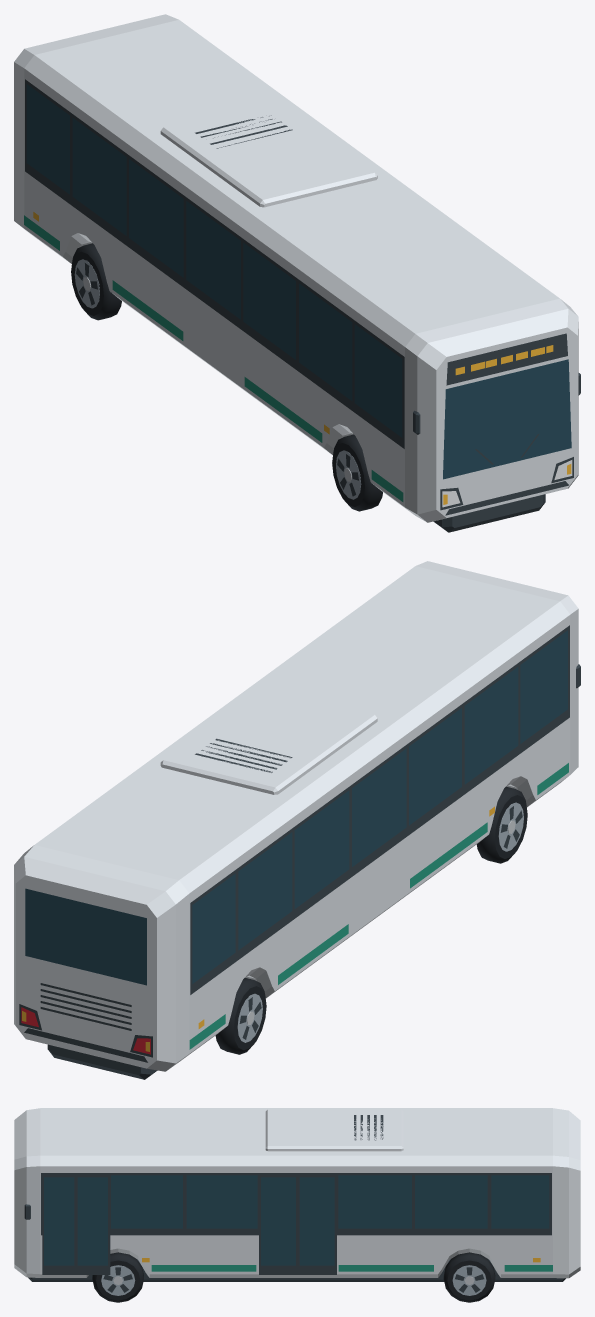
The model's file is bus.glb.
The picture shows the model from 3 angles, top to bottom: view 1: azimuth 30°, elevation 25°; view 2: azimuth 150°, elevation 25°; view 3: azimuth 270°, elevation 25°; orthographic projection. The views are drawn at different scales.
Visible parts, largest first — view 1: bus; view 2: bus; view 3: bus.
Part boxes in pixels (x1,y1,x2,y2): bus: [14, 14, 580, 532]; bus: [14, 561, 580, 1079]; bus: [14, 1108, 580, 1302].
Size of the model in its own units: 2.5 by 3.2 by 11.
